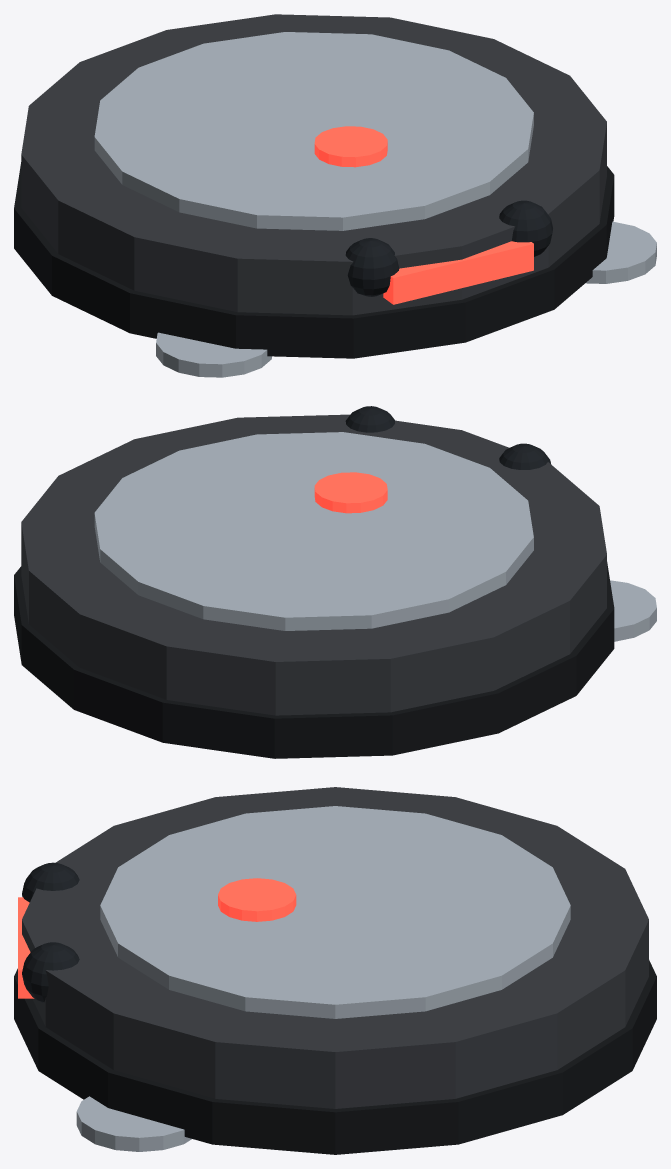
Rendered from roomba-lod0.glb.
3 renders of one model, top to bottom at view 1: azimuth 30°, elevation 25°; view 2: azimuth 150°, elevation 25°; view 3: azimuth 270°, elevation 25°, orthographic. The views are drawn at different scales.
Visible parts, largest first — view 1: roomba; view 2: roomba; view 3: roomba.
Part boxes in pixels (x1,y1,x2,y2): roomba: (14,14,656,377); roomba: (14,406,656,758); roomba: (14,787,656,1154).
Size of the model in its own units: 0.82 by 0.185 by 0.82.
